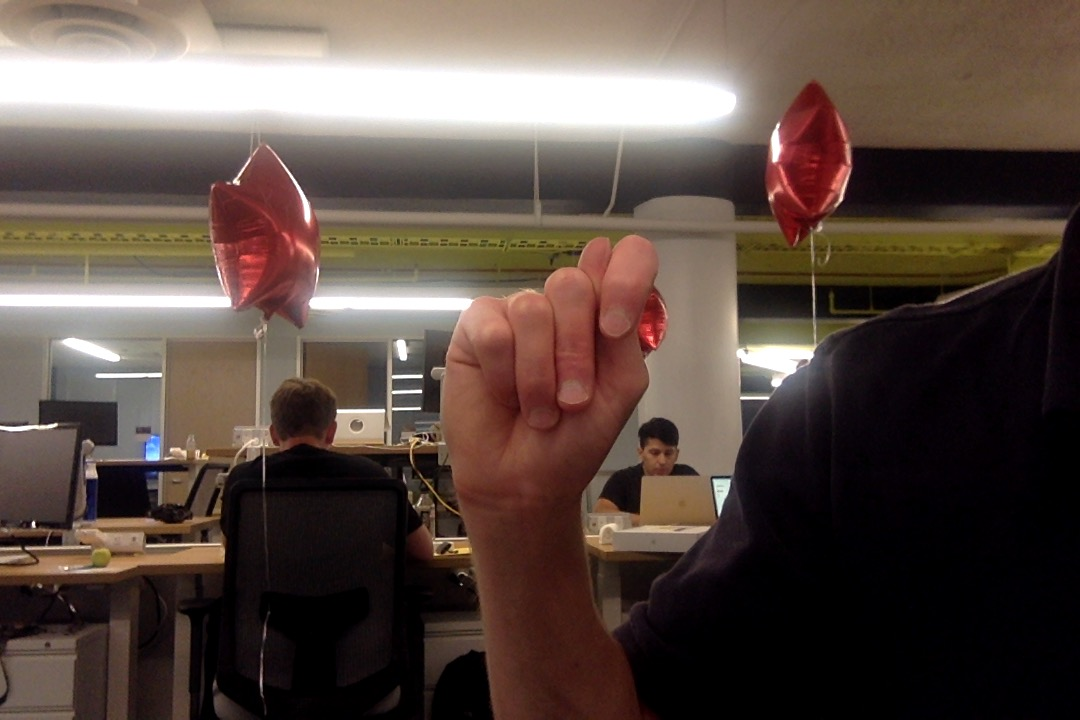t: (434, 228, 669, 527)
